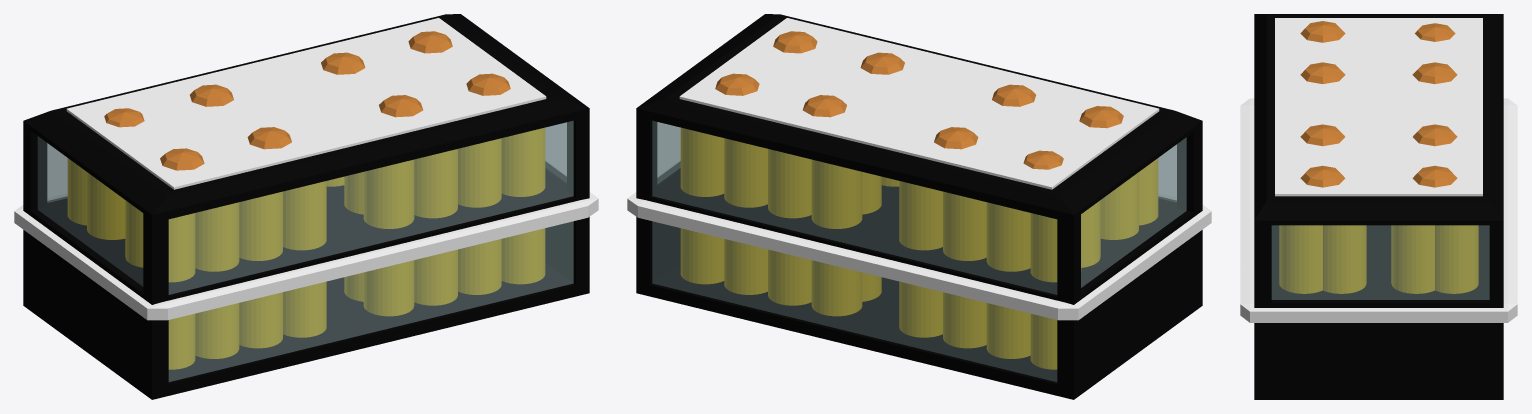
The model's file is Battery.fbx.
The picture shows the model from 3 angles, left to right: view 1: azimuth 30°, elevation 25°; view 2: azimuth 150°, elevation 25°; view 3: azimuth 270°, elevation 25°; orthographic projection. The views are drawn at different scales.
Visible parts, largest first — view 1: Cube, longWindows, Cube.001, Cube.002, shortWindows, Cylinder.004, Cylinder.001, Cylinder.007, Cylinder.003, Cylinder.006, Cylinder.005, Cylinder.002 (+13 smaller); view 2: Cube, longWindows, Cube.001, Cube.002, shortWindows, Cylinder.012, Cylinder.009, Cylinder.015, Cylinder.011, Cylinder.014, Cylinder.013, Cylinder.010 (+13 smaller); view 3: Cube, Cube.001, shortWindows, Cube.002, Cylinder.007, Cylinder.015, Cylinder.023, Cylinder.031, Sphere, Sphere.004, Sphere.003, Sphere.001 (+4 smaller).
Part boxes in pixels (x1,y1,x2,y2): Cube: (23, 14, 589, 399); longWindows: (47, 121, 573, 381); Cube.001: (66, 18, 546, 189); Cube.002: (14, 160, 598, 320); shortWindows: (37, 122, 566, 286); Cylinder.004: (363, 159, 414, 316); Cylinder.001: (195, 202, 239, 358); Cylinder.007: (501, 127, 545, 284); Cylinder.003: (283, 181, 326, 337); Cylinder.006: (458, 138, 501, 294); Cylinder.005: (414, 149, 457, 305); Cylinder.002: (239, 191, 282, 348); Cube: (636, 14, 1202, 399); longWindows: (652, 121, 1176, 381); Cube.001: (679, 18, 1159, 189); Cube.002: (627, 160, 1211, 320); shortWindows: (657, 122, 1186, 287); Cylinder.012: (811, 159, 862, 316); Cylinder.009: (986, 202, 1030, 358); Cylinder.015: (680, 127, 724, 284); Cylinder.011: (899, 181, 942, 337); Cylinder.014: (724, 138, 767, 294); Cylinder.013: (768, 149, 811, 305); Cylinder.010: (943, 191, 986, 348); Cube: (1254, 14, 1503, 399); Cube.001: (1275, 18, 1482, 196); shortWindows: (1271, 225, 1489, 299); Cube.002: (1240, 98, 1517, 322); Cylinder.007: (1279, 225, 1322, 293); Cylinder.015: (1435, 225, 1478, 293); Cylinder.023: (1323, 225, 1366, 293); Cylinder.031: (1391, 225, 1434, 293); Sphere: (1300, 165, 1345, 187); Sphere.004: (1412, 165, 1457, 187); Sphere.003: (1300, 21, 1345, 42); Sphere.001: (1300, 124, 1344, 146).
Bounding box in the file's own units: 121 × 52.84 × 66.75.
